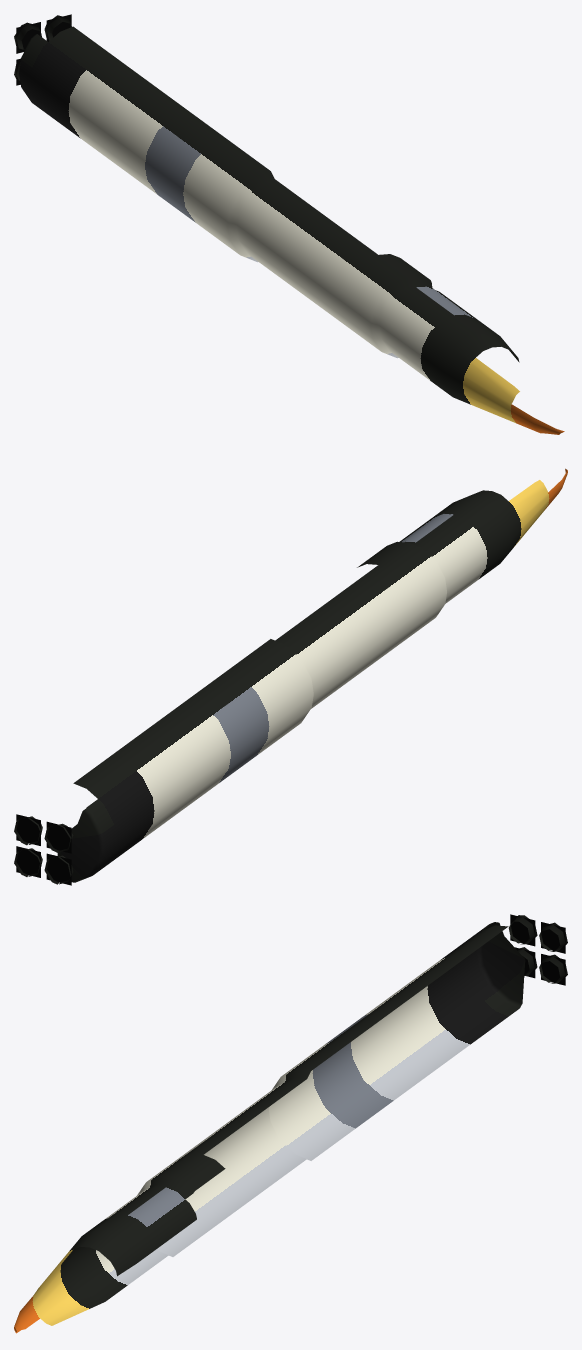
The model's file is icbm_body_lod1.obj.
The picture shows the model from 3 angles, top to bottom: view 1: azimuth 30°, elevation 25°; view 2: azimuth 150°, elevation 25°; view 3: azimuth 330°, elevation 25°; orthographic projection.
Bounding box in the file's own units: 1.8 × 1.8 × 18.92.
